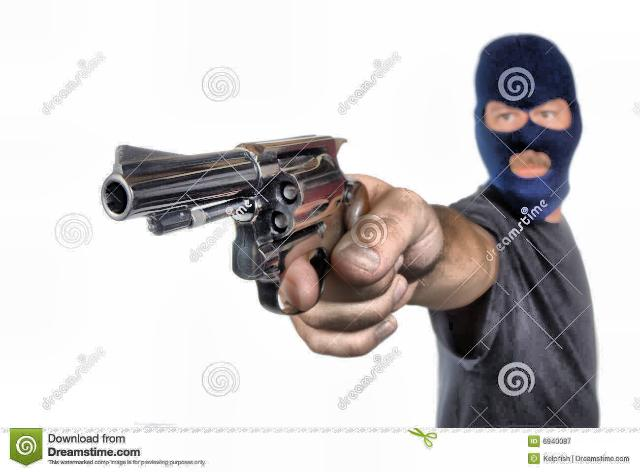pistol: (100, 124, 378, 314)
